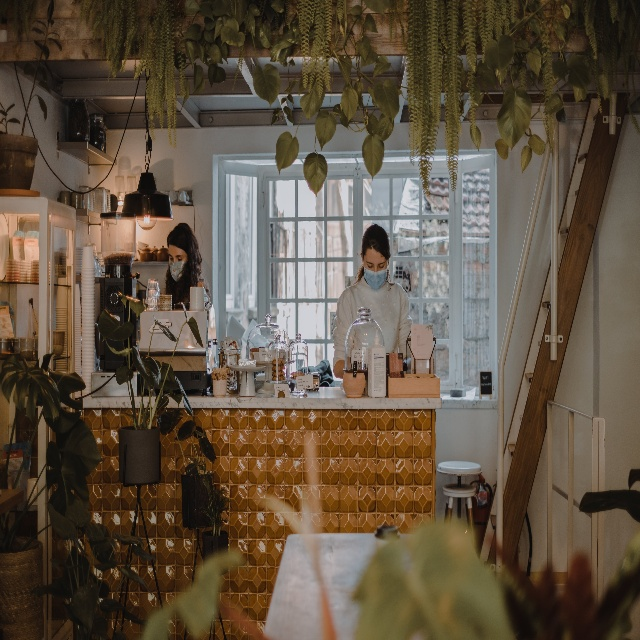Mascara: (362, 258, 390, 289), (168, 258, 187, 283)
